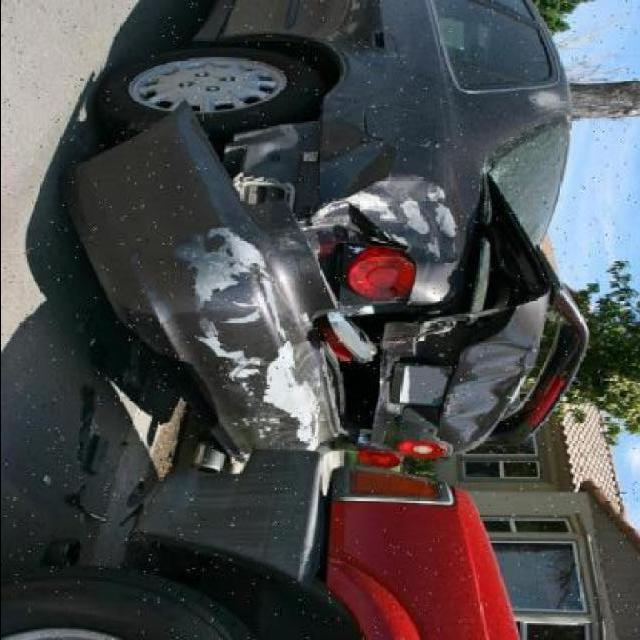quaterpanel-dent: (281, 66, 460, 247)
rear-bumper-dent: (79, 123, 306, 391)
